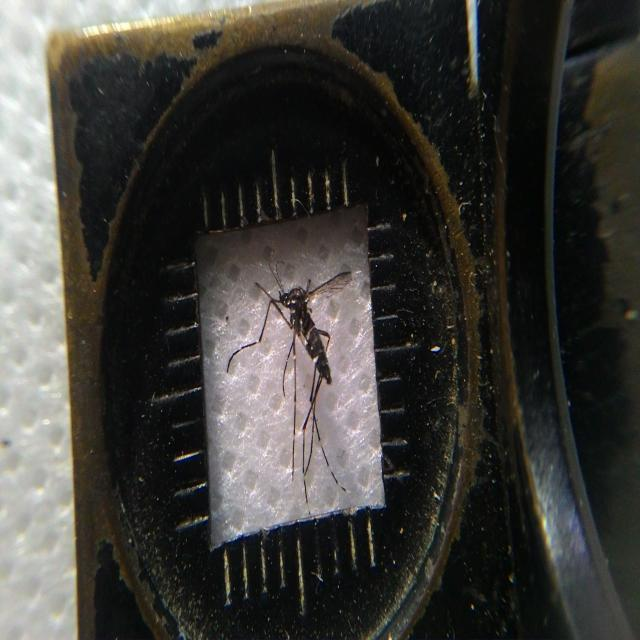albopictus: (226, 240, 354, 492)
